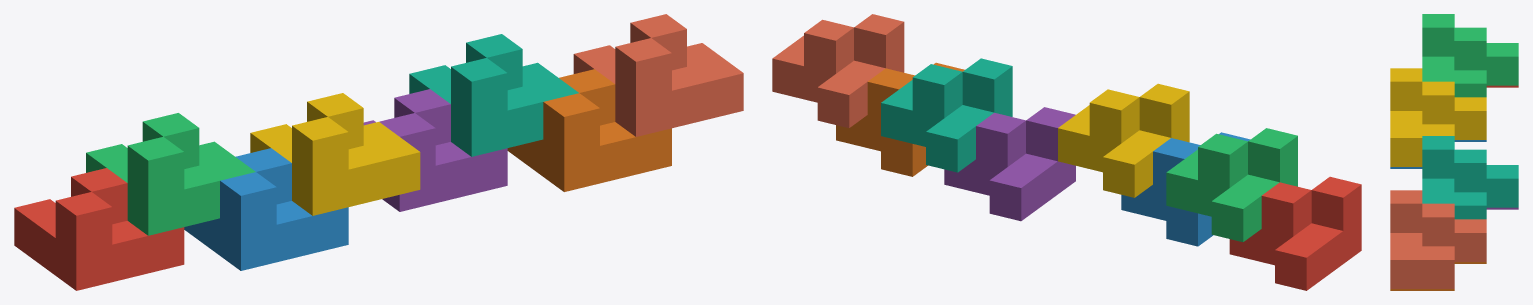
The model's file is tiling.obj.
The picture shows the model from 3 angles, left to right: view 1: azimuth 30°, elevation 25°; view 2: azimuth 150°, elevation 25°; view 3: azimuth 270°, elevation 25°; orthographic projection. The views are drawn at different scales.
Parts seen in each view (by area): view 1: copy_1_domain_1, copy_1_domain_8, copy_1_domain_4, copy_1_domain_3, copy_1_domain_7, copy_1_domain_6, copy_1_domain_2, copy_1_domain_5; view 2: copy_1_domain_1, copy_1_domain_8, copy_1_domain_3, copy_1_domain_4, copy_1_domain_7, copy_1_domain_5, copy_1_domain_2, copy_1_domain_6; view 3: copy_1_domain_8, copy_1_domain_4, copy_1_domain_3, copy_1_domain_7, copy_1_domain_6, copy_1_domain_2, copy_1_domain_1, copy_1_domain_5.
Boxes of the visible parts, x1=… form: copy_1_domain_1: x1=14, y1=168, x2=184, y2=290; copy_1_domain_8: x1=573, y1=14, x2=743, y2=136; copy_1_domain_4: x1=250, y1=93, x2=420, y2=215; copy_1_domain_3: x1=86, y1=113, x2=255, y2=235; copy_1_domain_7: x1=409, y1=34, x2=578, y2=156; copy_1_domain_6: x1=507, y1=69, x2=671, y2=191; copy_1_domain_2: x1=184, y1=148, x2=348, y2=270; copy_1_domain_5: x1=363, y1=89, x2=507, y2=211; copy_1_domain_1: x1=1229, y1=176, x2=1361, y2=290; copy_1_domain_8: x1=772, y1=14, x2=904, y2=127; copy_1_domain_3: x1=1166, y1=128, x2=1297, y2=241; copy_1_domain_4: x1=1058, y1=83, x2=1189, y2=197; copy_1_domain_7: x1=881, y1=58, x2=1012, y2=172; copy_1_domain_5: x1=944, y1=107, x2=1075, y2=221; copy_1_domain_2: x1=1121, y1=132, x2=1250, y2=246; copy_1_domain_6: x1=836, y1=62, x2=964, y2=176; copy_1_domain_8: x1=1390, y1=190, x2=1486, y2=288; copy_1_domain_4: x1=1390, y1=68, x2=1486, y2=166; copy_1_domain_3: x1=1422, y1=14, x2=1518, y2=97; copy_1_domain_7: x1=1422, y1=136, x2=1518, y2=219; copy_1_domain_6: x1=1390, y1=262, x2=1486, y2=290; copy_1_domain_2: x1=1390, y1=140, x2=1486, y2=168; copy_1_domain_1: x1=1486, y1=85, x2=1518, y2=87; copy_1_domain_5: x1=1486, y1=207, x2=1518, y2=209.
Size of the model in its own units: 18 by 3 by 4.
